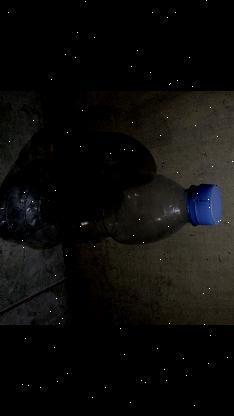Plastic Bottle: (0, 170, 221, 246)
